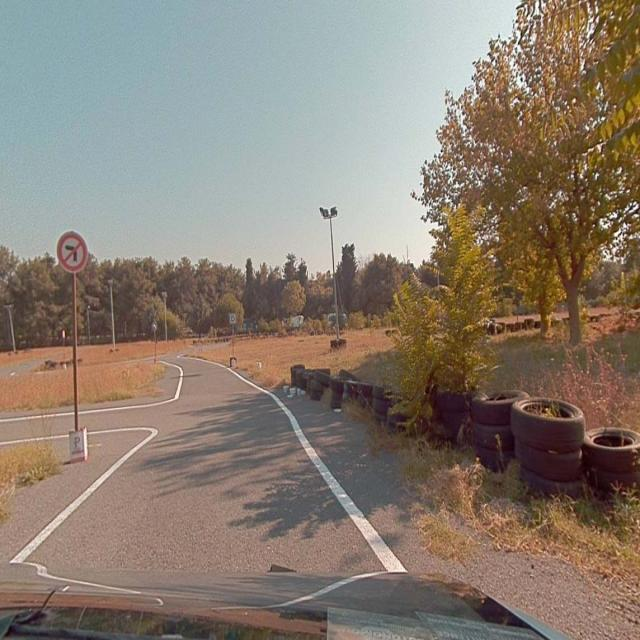durak: (230, 314, 236, 325)
soladonulmez: (56, 232, 88, 272)
